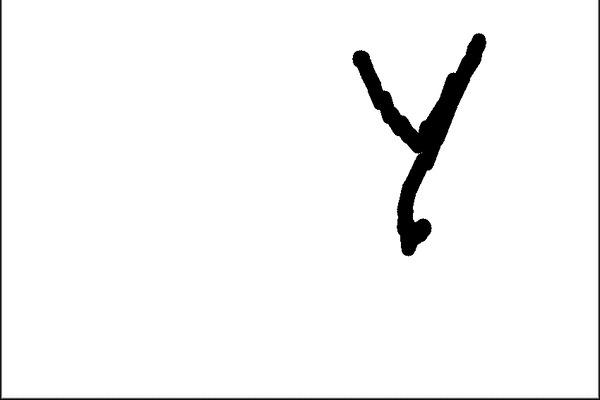Y: (343, 26, 506, 272)
